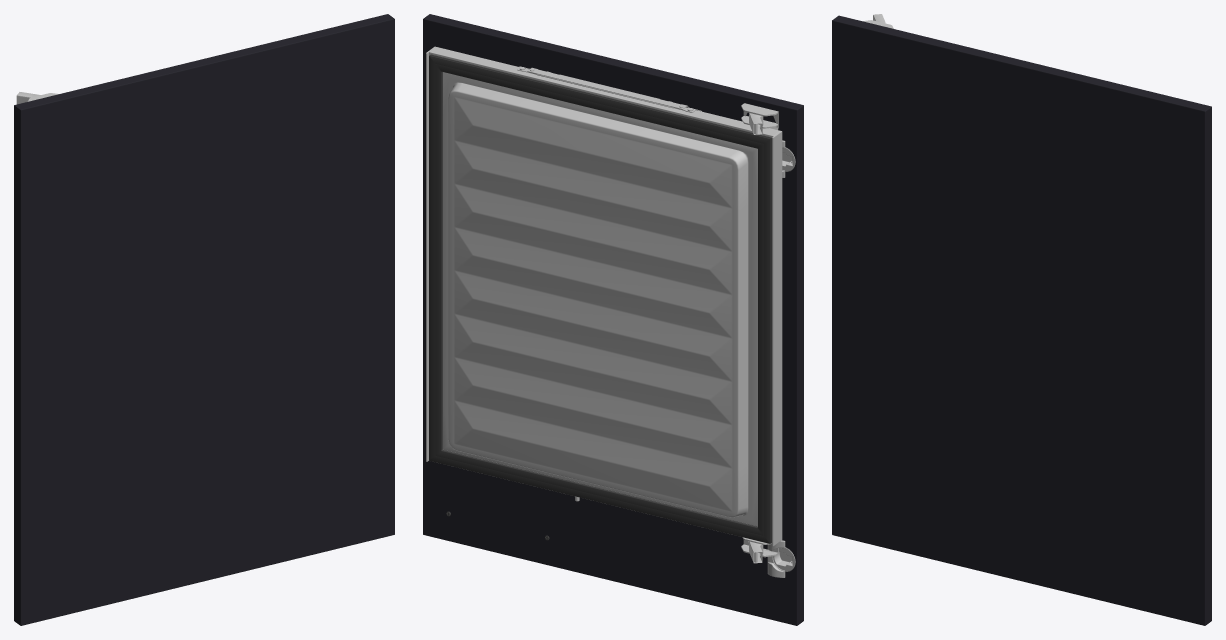
The model's file is SM_Fridge_Door_02.dae.
3 views of the same model, side by side, from view 1: azimuth 30°, elevation 25°; view 2: azimuth 150°, elevation 25°; view 3: azimuth 330°, elevation 25° (orthographic).
Visible parts, largest first — view 1: SM_Fridge_Door_02; view 2: SM_Fridge_Door_02; view 3: SM_Fridge_Door_02.
Boxes of the visible parts, x1=… form: SM_Fridge_Door_02: x1=14, y1=14, x2=394, y2=625; SM_Fridge_Door_02: x1=423, y1=14, x2=803, y2=625; SM_Fridge_Door_02: x1=832, y1=14, x2=1211, y2=625.
Bounding box in the file's own units: 0.5969 × 0.074 × 0.7865.
